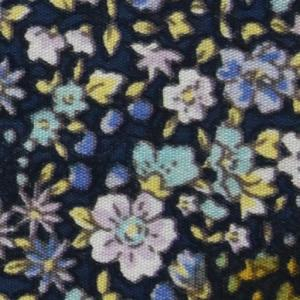Oil Stain: (213, 251, 300, 300)
